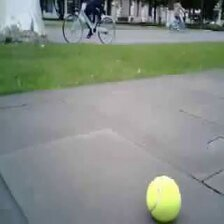tennis: (146, 175, 182, 222)
